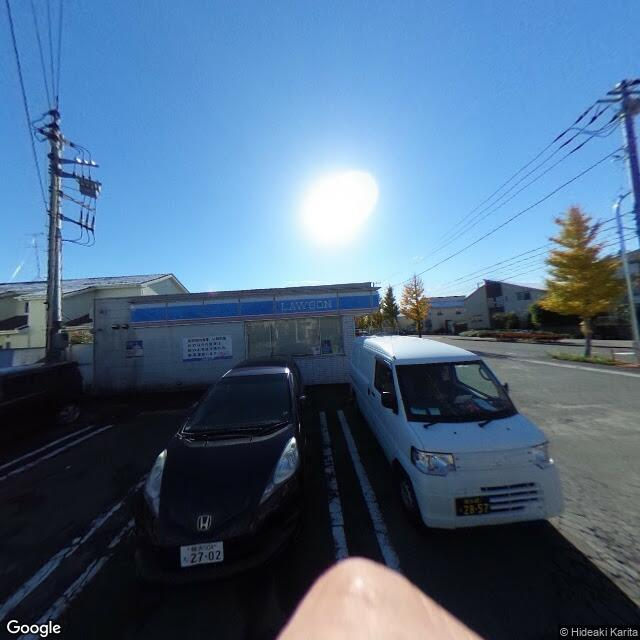lawson: (130, 287, 383, 329)
